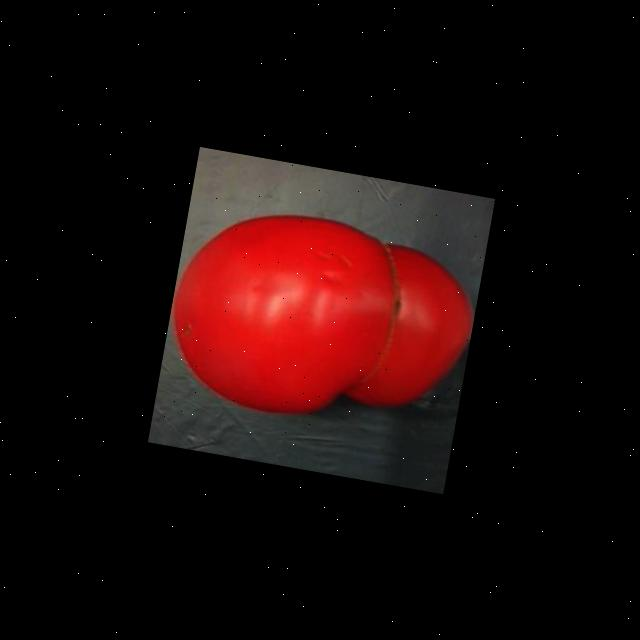tomato: (153, 192, 486, 452)
